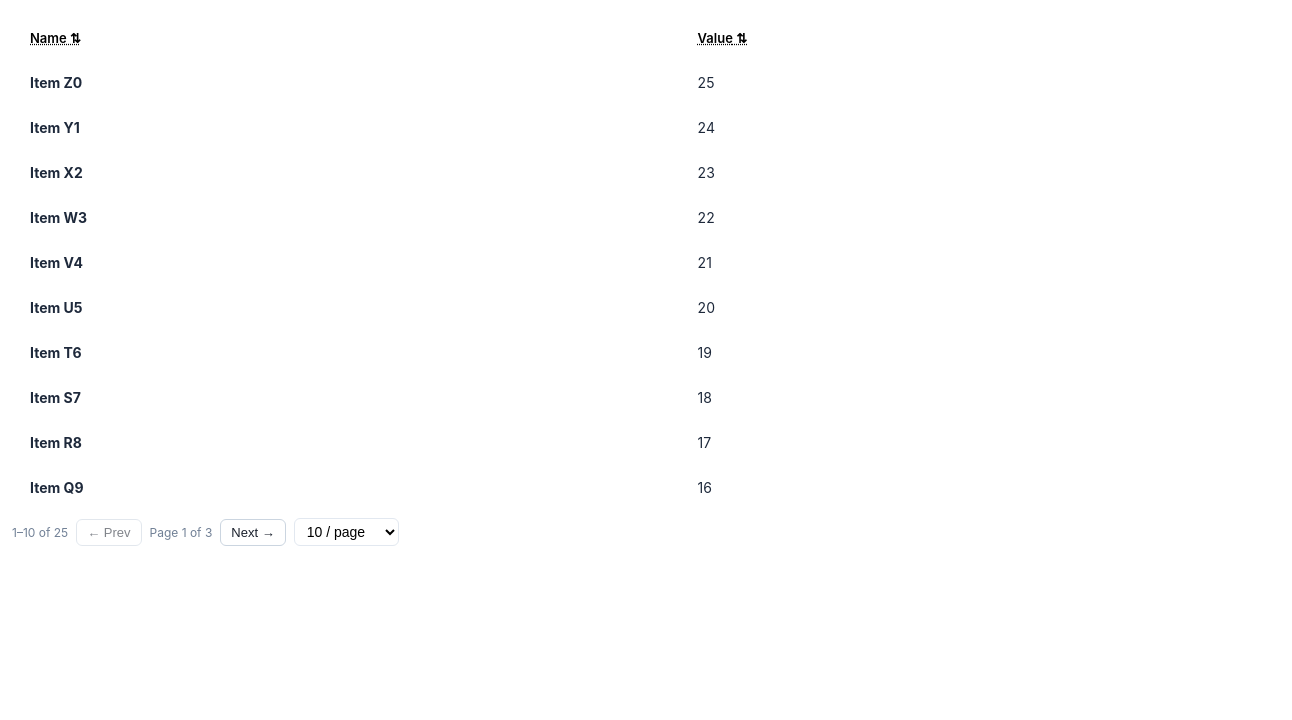
Test: DataTable client pagination (BL-2) › sorting applies to the full row set before slicing
# Initial page contains value 25 down to 16 (unsorted by name).
Click the button "Value ⇅": (722, 38) [698,30,747,46]
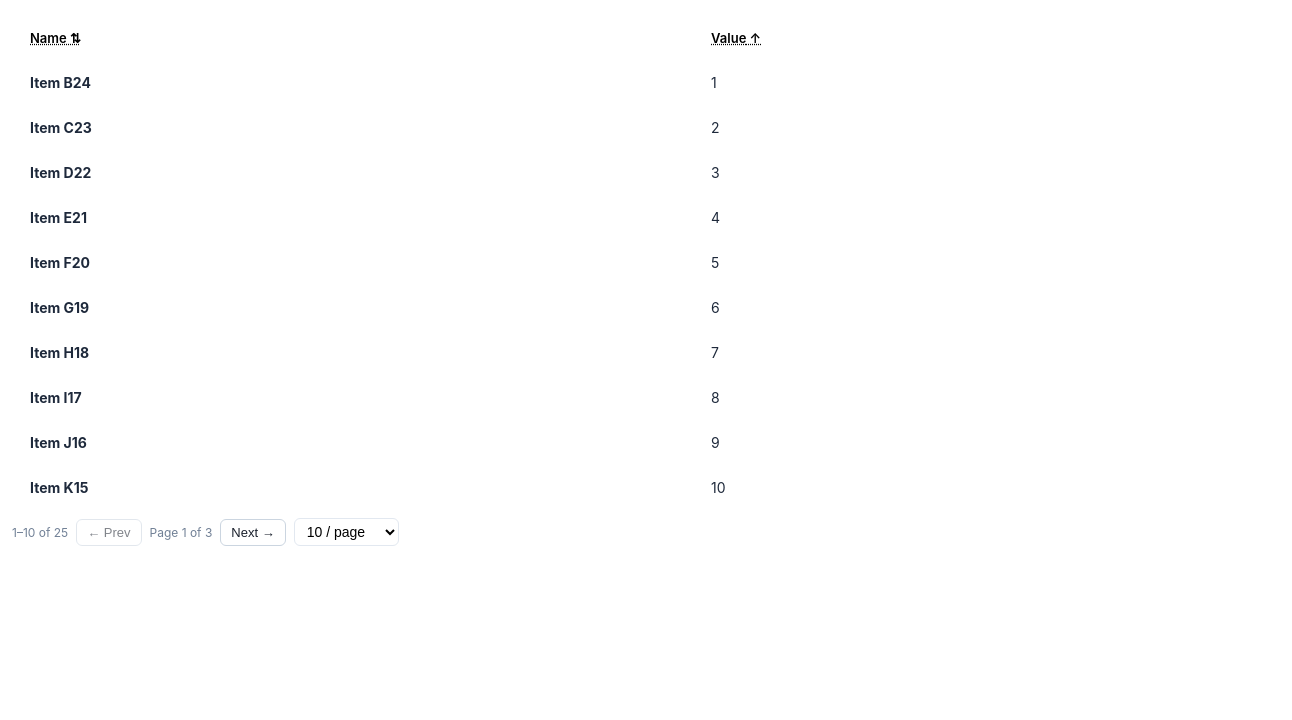
Check: the row "Item B24 1" is shown, box [12,60,1291,105]
